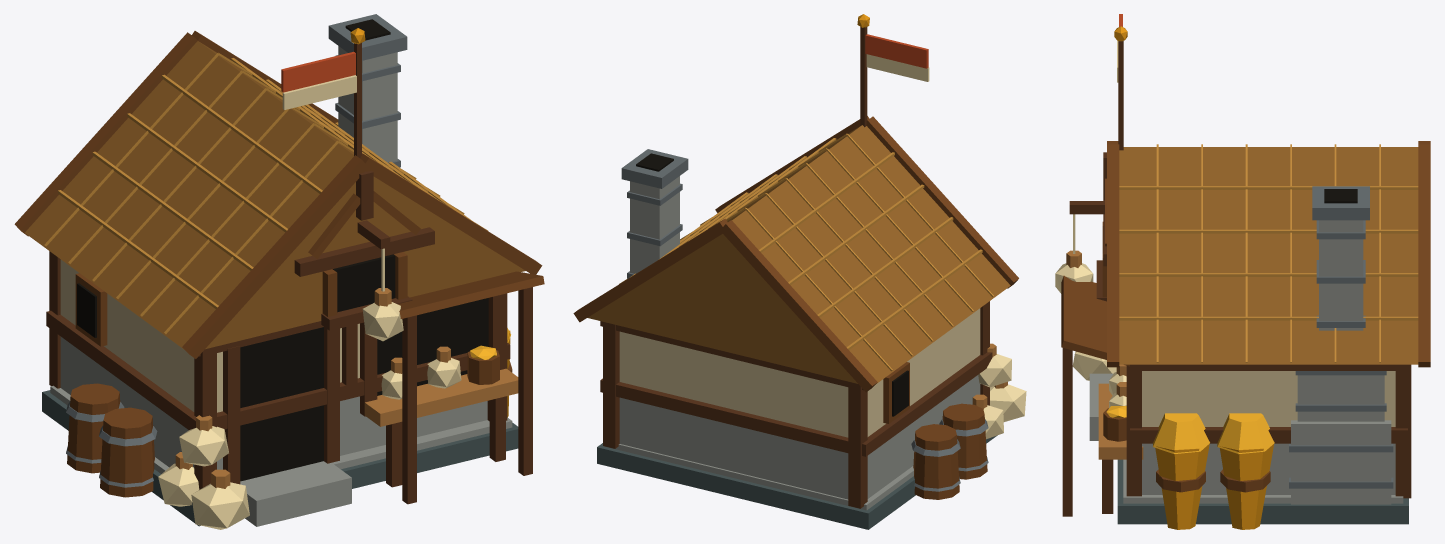
The model's file is farm.glb.
3 renders of one model, left to right at view 1: azimuth 30°, elevation 25°; view 2: azimuth 150°, elevation 25°; view 3: azimuth 270°, elevation 25°, orthographic. The views are drawn at different scales.
Parts seen in each view (by area): view 1: Roof, Door jamb.001, Side window frame, Flue opening, Chimney base, Tile seam, Grain sack, Farmhouse plaster wall, Bay counter, Stone footing, Cask band, Pennant; view 2: Roof, Chimney base, Farmhouse plaster wall, Side window frame, Door jamb.001, Tile seam, Stone footing, Cask band, Grain sack, Pennant, Flue opening; view 3: Roof, Chimney base, Door jamb.001, Side window frame, Farmhouse plaster wall, Tile seam, Cask band, Wheat sheaf.001, Stone footing, Sheaf heads, Grain sack, Bay counter (+1 smaller).
Boxes of the visible parts, bbox=[...] form: Roof: bbox=[25, 41, 525, 349]; Door jamb.001: bbox=[46, 43, 532, 504]; Side window frame: bbox=[14, 31, 544, 497]; Flue opening: bbox=[77, 19, 488, 481]; Chimney base: bbox=[50, 46, 512, 526]; Tile seam: bbox=[44, 52, 487, 333]; Grain sack: bbox=[158, 75, 461, 529]; Farmhouse plaster wall: bbox=[60, 259, 359, 412]; Bay counter: bbox=[175, 288, 518, 488]; Stone footing: bbox=[42, 390, 518, 526]; Cask band: bbox=[66, 14, 407, 487]; Pennant: bbox=[281, 51, 355, 92]; Roof: bbox=[587, 125, 1010, 383]; Chimney base: bbox=[604, 176, 980, 510]; Farmhouse plaster wall: bbox=[619, 308, 980, 437]; Side window frame: bbox=[573, 116, 1018, 499]; Door jamb.001: bbox=[600, 26, 992, 508]; Tile seam: bbox=[619, 133, 993, 371]; Stone footing: bbox=[597, 435, 997, 529]; Cask band: bbox=[621, 149, 988, 491]; Grain sack: bbox=[866, 54, 1026, 439]; Pennant: bbox=[865, 34, 928, 68]; Flue opening: bbox=[636, 153, 908, 416]; Roof: bbox=[1119, 147, 1418, 364]; Chimney base: bbox=[1089, 220, 1403, 504]; Door jamb.001: bbox=[1062, 41, 1411, 516]; Side window frame: bbox=[1061, 141, 1430, 492]; Farmhouse plaster wall: bbox=[1142, 371, 1395, 426]; Tile seam: bbox=[1119, 144, 1418, 362]; Cask band: bbox=[1289, 186, 1393, 488]; Wheat sheaf.001: bbox=[1114, 26, 1273, 529]; Stone footing: bbox=[1117, 459, 1408, 524]; Sheaf heads: bbox=[1106, 406, 1274, 454]; Grain sack: bbox=[1055, 40, 1126, 407]; Bay counter: bbox=[1066, 250, 1143, 459].
Size of the model in its own units: 3.69 by 4.23 by 3.38.
